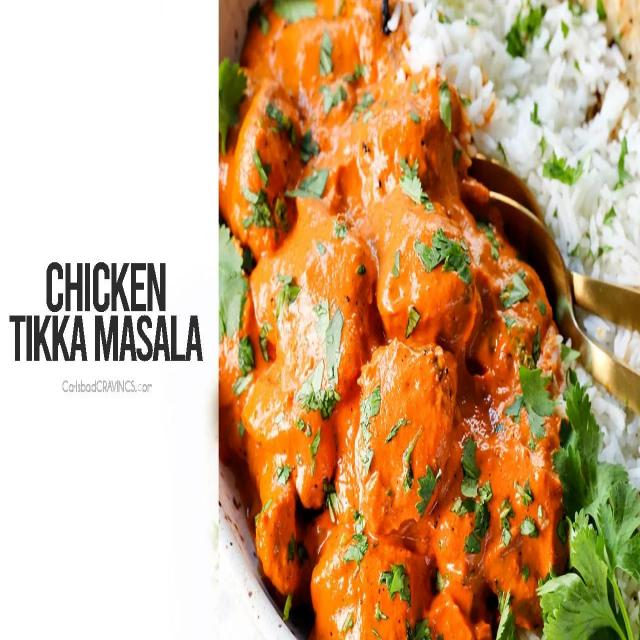chicken: (224, 10, 535, 631)
rice: (460, 4, 640, 213)
